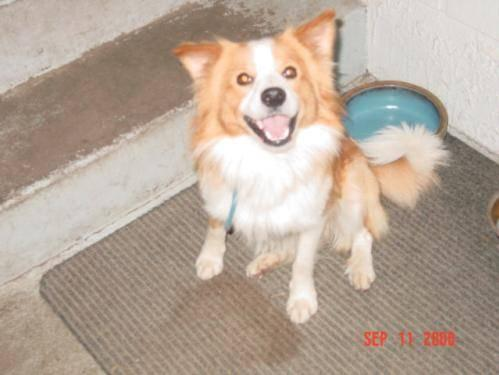dog: (169, 29, 452, 325)
